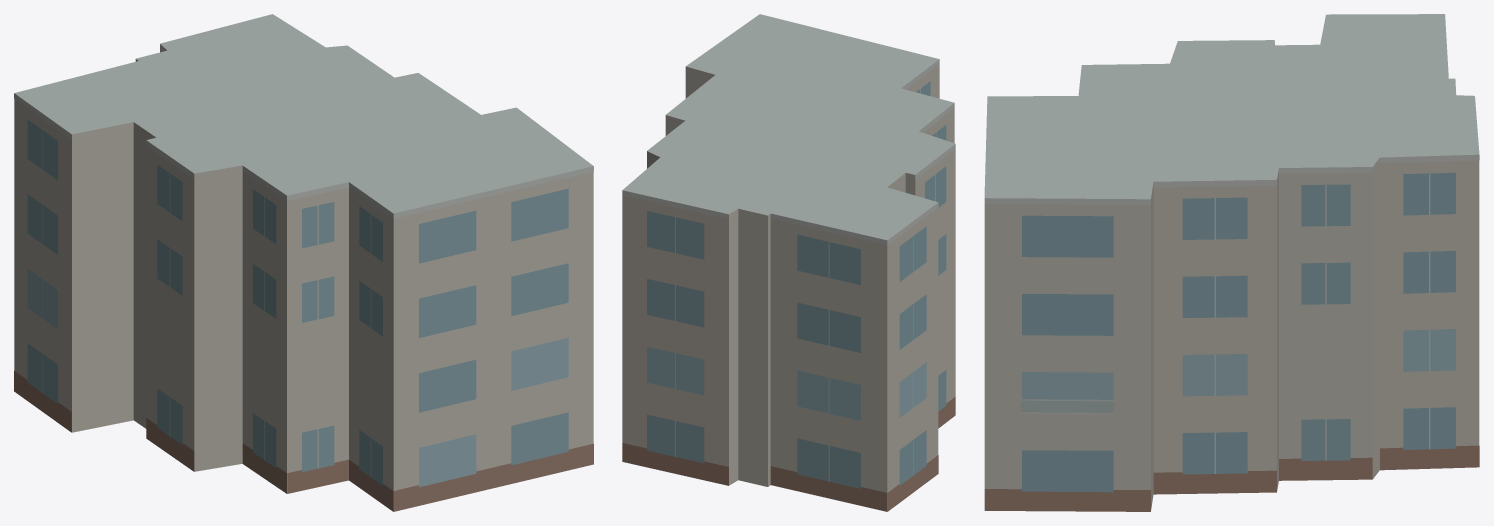
File: survey-upis-32951193.glb
3 views of the same model, side by side, from view 1: azimuth 30°, elevation 25°; view 2: azimuth 150°, elevation 25°; view 3: azimuth 270°, elevation 25° (orthographic). The views are drawn at different scales.
Visible parts, largest first — view 1: survey-upis-32951193.tmp; view 2: survey-upis-32951193.tmp; view 3: survey-upis-32951193.tmp.
Boxes of the visible parts, bbox=[...] form: survey-upis-32951193.tmp: bbox=[14, 14, 593, 511]; survey-upis-32951193.tmp: bbox=[622, 14, 955, 511]; survey-upis-32951193.tmp: bbox=[984, 14, 1479, 511].
Size of the model in its own units: 16.66 by 13.1 by 18.81.
